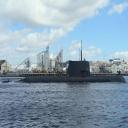submarine: (4, 39, 128, 84)
